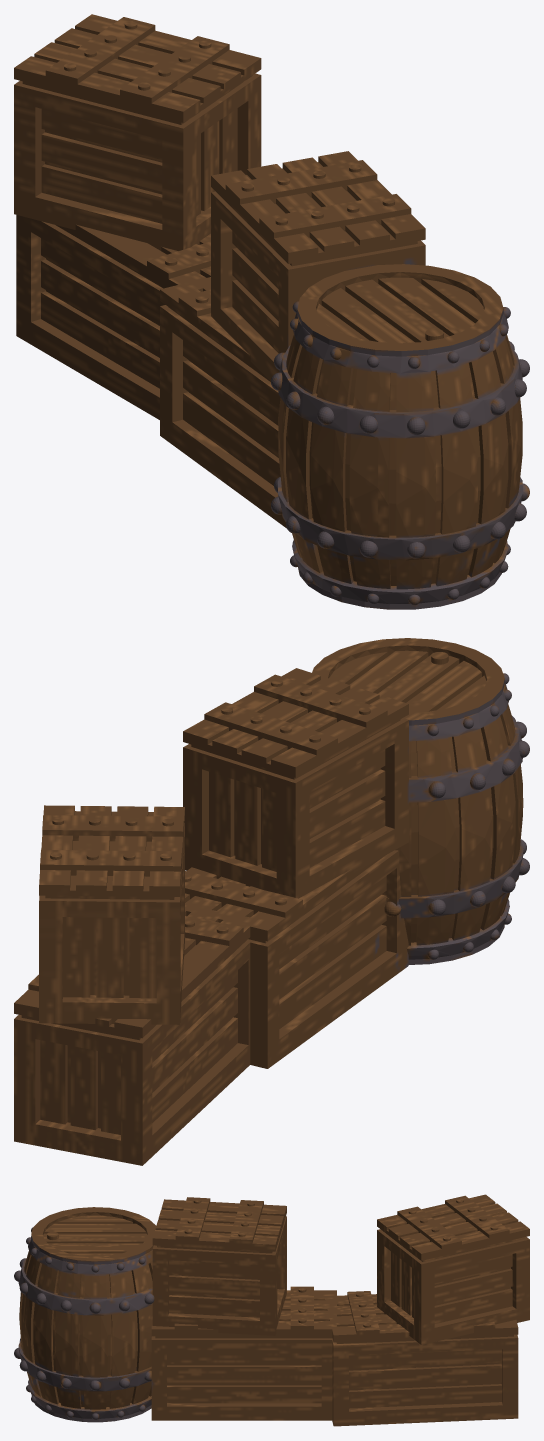
Rendered from coffin.fbx.
3 renders of one model, top to bottom at view 1: azimuth 30°, elevation 25°; view 2: azimuth 150°, elevation 25°; view 3: azimuth 270°, elevation 25°, orthographic. The views are drawn at different scales.
Visible parts, largest first — view 1: OpenDungeonTiles_barricade_3; view 2: OpenDungeonTiles_barricade_3; view 3: OpenDungeonTiles_barricade_3.
Part boxes in pixels (left/top/right/bottom): OpenDungeonTiles_barricade_3: left=14, top=14, right=529, bottom=609; OpenDungeonTiles_barricade_3: left=14, top=638, right=529, bottom=1165; OpenDungeonTiles_barricade_3: left=14, top=1194, right=529, bottom=1426.
Size of the model in its own units: 2191 by 2625 by 6672.
1 material, 1 textured.
